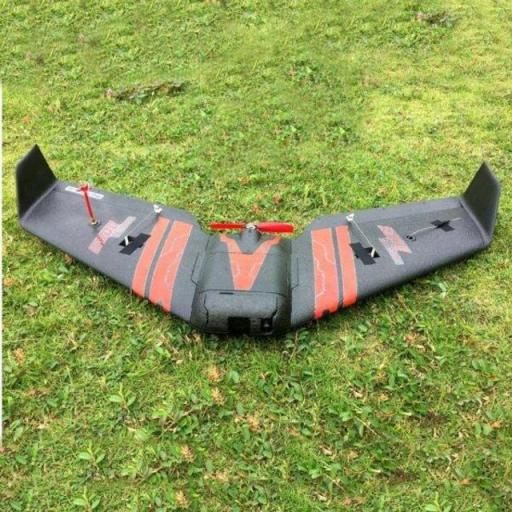uav: (0, 149, 511, 337)
